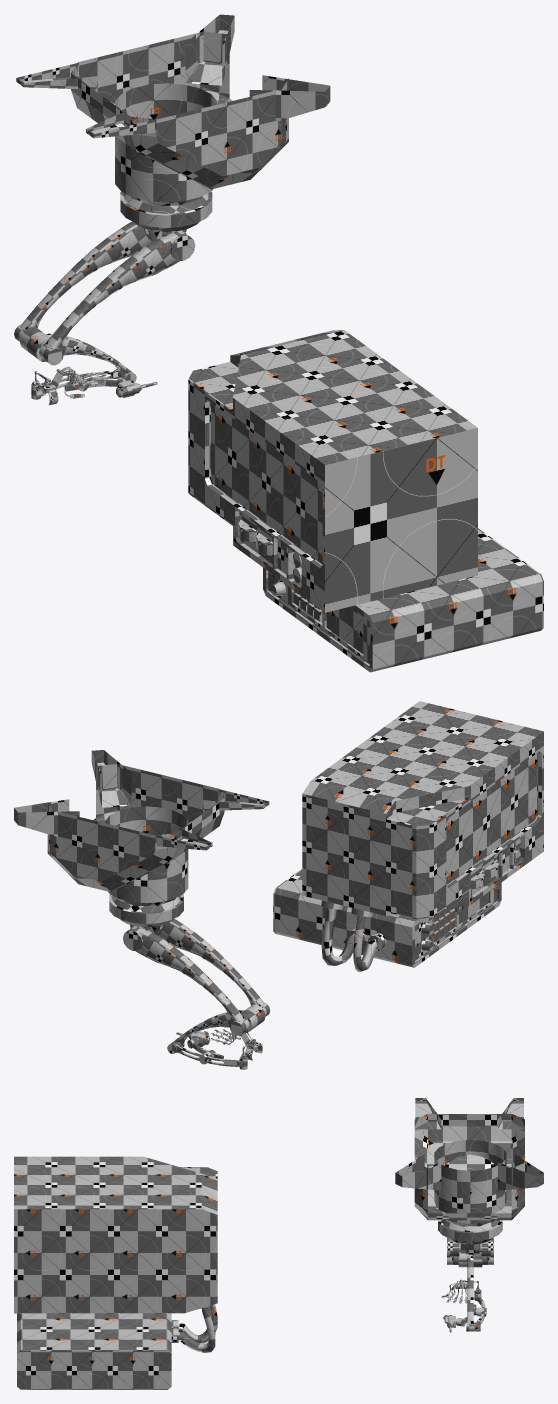
Rendered from Props_05.FBX.
3 views of the same model, one above another, from view 1: azimuth 30°, elevation 25°; view 2: azimuth 150°, elevation 25°; view 3: azimuth 270°, elevation 25° (orthographic). The views are drawn at different scales.
Parts seen in each view (by area): view 1: Object35115, Object35097, Object35116, Object35087, Object35098, Object35088, Object35096; view 2: Object35115, Object35097, Object35116, Object35087, Object35098, Object35088, Object35089, Object35096; view 3: Object35115, Object35097, Object35116, Object35098, Object35088, Object35087.
Boxes of the visible parts, left/top/right/bottom form: Object35115: left=188, top=330, right=477, bottom=612; Object35097: left=16, top=14, right=330, bottom=205; Object35116: left=263, top=528, right=543, bottom=672; Object35087: left=14, top=221, right=195, bottom=365; Object35098: left=120, top=191, right=212, bottom=241; Object35088: left=19, top=327, right=136, bottom=383; Object35096: left=36, top=366, right=105, bottom=405; Object35115: left=302, top=701, right=543, bottom=972; Object35097: left=14, top=750, right=269, bottom=905; Object35116: left=273, top=869, right=501, bottom=967; Object35087: left=123, top=919, right=270, bottom=1035; Object35098: left=109, top=894, right=183, bottom=935; Object35088: left=173, top=1004, right=265, bottom=1047; Object35089: left=167, top=1042, right=247, bottom=1069; Object35096: left=210, top=1029, right=262, bottom=1060; Object35115: left=14, top=1156, right=217, bottom=1352; Object35097: left=395, top=1098, right=543, bottom=1226; Object35116: left=17, top=1313, right=178, bottom=1389; Object35098: left=438, top=1220, right=502, bottom=1254; Object35088: left=458, top=1252, right=482, bottom=1331; Object35087: left=447, top=1238, right=493, bottom=1264.
Size of the model in its own units: 136 by 151 by 310.
